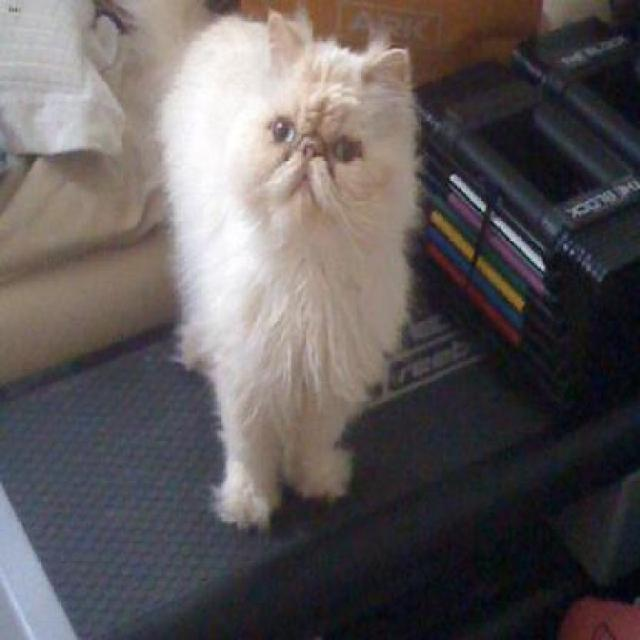cat: (158, 12, 416, 528)
